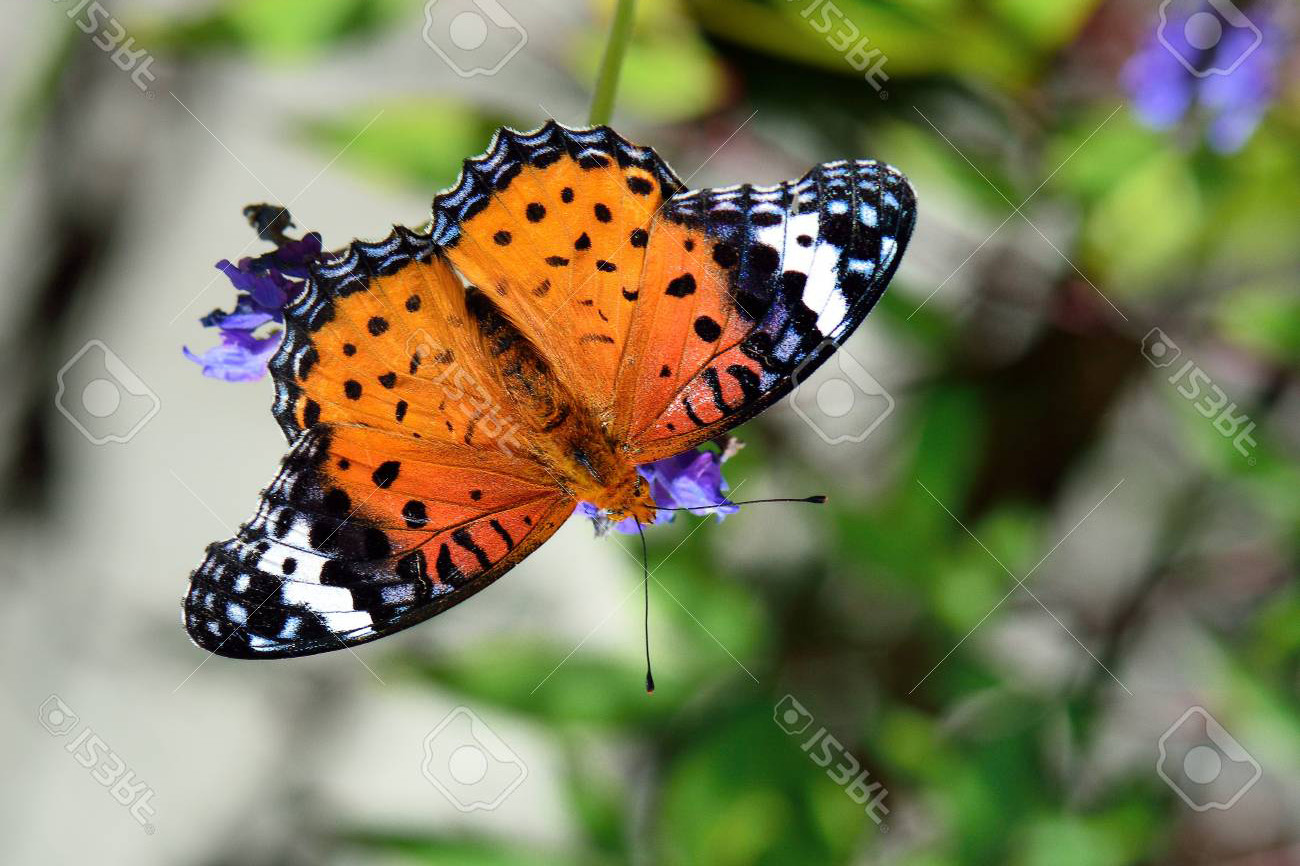Argyreus hyperbius: (176, 115, 928, 701)
butterfly: (178, 117, 930, 703)
